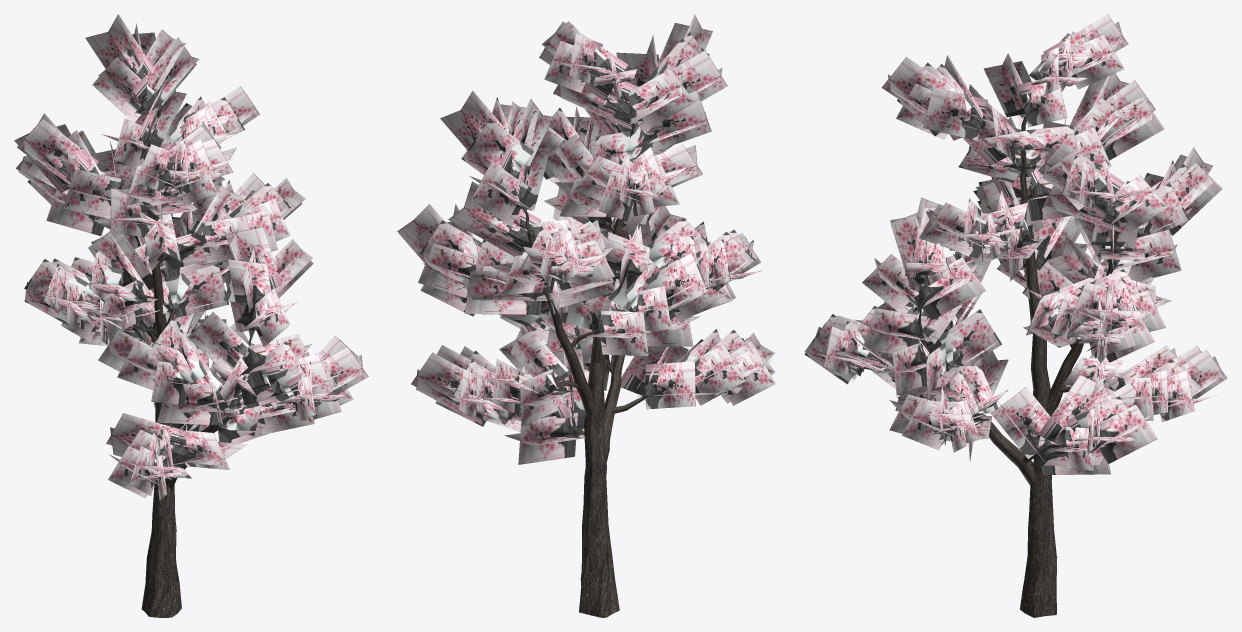
File: sakura.gltf
3 renders of one model, left to right at view 1: azimuth 30°, elevation 25°; view 2: azimuth 150°, elevation 25°; view 3: azimuth 270°, elevation 25°, orthographic. The views are drawn at different scales.
Visible parts, largest first — view 1: sakura1; view 2: sakura1; view 3: sakura1.
Boxes of the visible parts, x1,y1,x2,y2 form: sakura1: (14, 14, 368, 617); sakura1: (397, 14, 775, 617); sakura1: (804, 14, 1227, 617).
Size of the model in its own units: 8.78 by 16.31 by 10.6.
2 materials, 2 textured.
